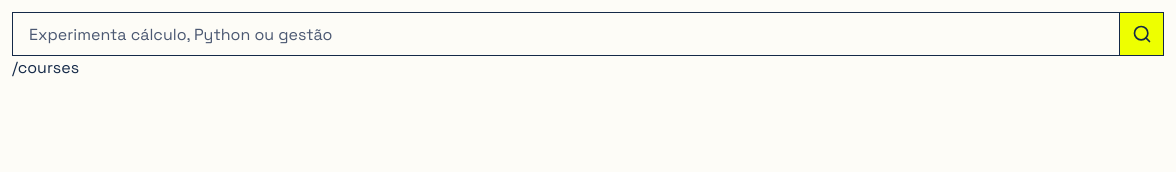
HeaderSearch › sends the term to the library search and clears the field
In the search field named "Pesquisar na biblioteca": point(566, 34) x1=12 y1=12 x2=1120 y2=56, type "  derivadas parciais "
Then press Enter
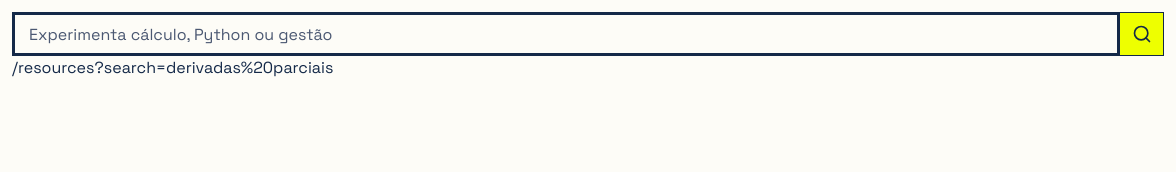
Check: the text with test id "where" reads "/resources?search=derivadas%20parciais", box x1=12 y1=57 x2=333 y2=78
